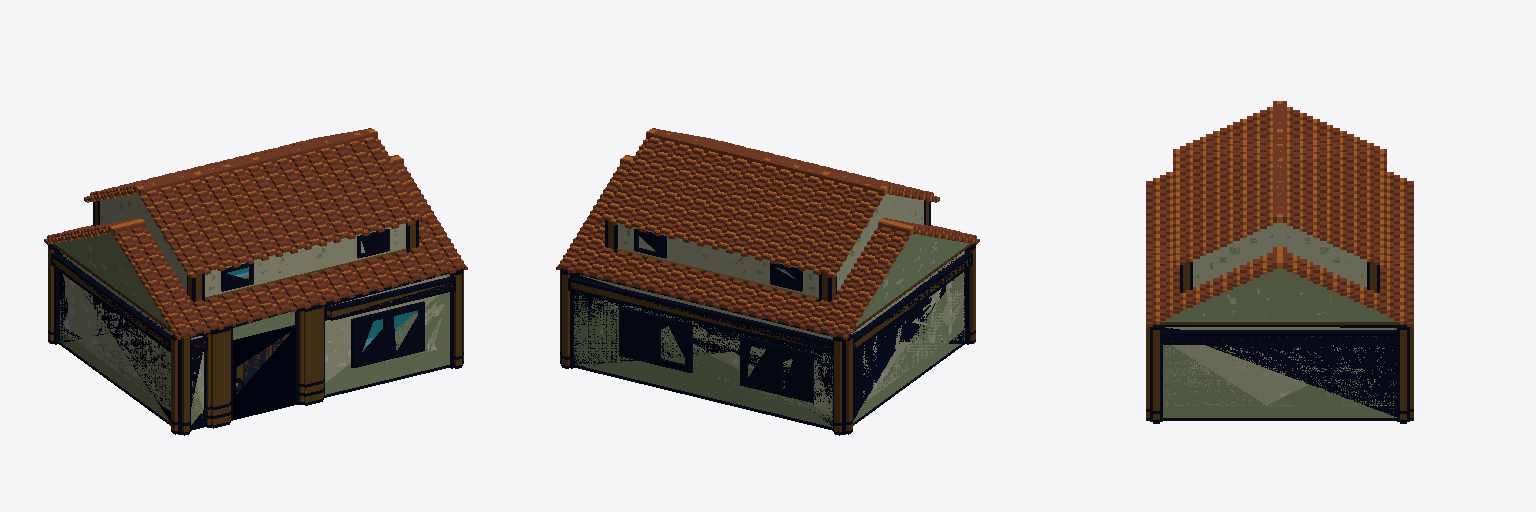
The model's file is RivalHouseEXT.obj.
3 views of the same model, side by side, from view 1: azimuth 30°, elevation 25°; view 2: azimuth 150°, elevation 25°; view 3: azimuth 270°, elevation 25° (orthographic).
Visible parts, largest first — view 1: FirstTownHouseF_FirstTownHouseF.015; view 2: FirstTownHouseF_FirstTownHouseF.015; view 3: FirstTownHouseF_FirstTownHouseF.015.
Boxes of the visible parts, box(x1,y1,x2,y2) form: FirstTownHouseF_FirstTownHouseF.015: box(44, 128, 467, 435); FirstTownHouseF_FirstTownHouseF.015: box(556, 128, 979, 435); FirstTownHouseF_FirstTownHouseF.015: box(1146, 101, 1413, 423).
Bounding box in the file's own units: 4 × 2.56 × 3.2.